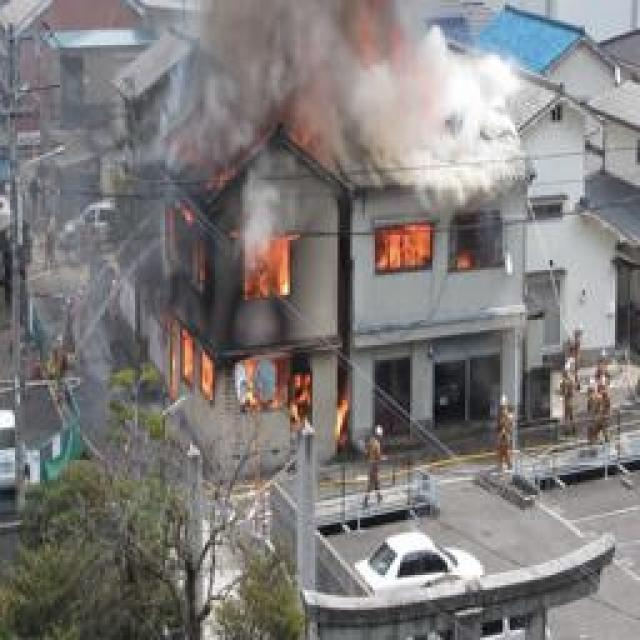Fire: (156, 196, 314, 432), (363, 230, 480, 276)
